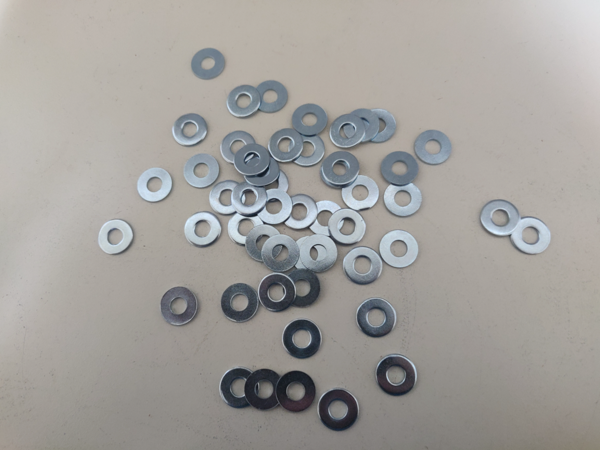circle: (376, 355, 418, 397), (318, 389, 359, 432), (276, 371, 316, 413), (357, 298, 397, 338), (220, 368, 259, 409), (510, 217, 552, 255), (283, 319, 322, 359), (245, 369, 282, 411), (379, 230, 419, 268), (344, 247, 383, 285), (480, 200, 520, 237), (220, 284, 258, 322), (283, 269, 321, 307), (245, 225, 283, 263), (161, 287, 198, 326), (258, 273, 295, 312), (300, 235, 337, 273), (184, 211, 221, 248), (262, 235, 299, 272), (98, 219, 134, 256), (307, 201, 344, 237), (380, 151, 418, 186), (342, 176, 380, 211), (384, 183, 423, 217), (329, 209, 365, 245), (228, 211, 264, 247), (252, 167, 289, 202), (137, 168, 173, 203), (283, 194, 318, 230), (269, 128, 304, 164), (257, 189, 293, 224), (231, 182, 267, 217), (210, 180, 246, 215), (415, 131, 452, 165), (184, 154, 219, 189), (221, 131, 257, 165), (323, 151, 360, 184), (321, 155, 358, 188), (293, 236, 330, 269), (363, 109, 397, 144), (344, 110, 379, 144), (330, 115, 365, 149), (289, 133, 325, 166), (234, 144, 271, 176), (254, 80, 289, 113), (292, 103, 327, 136), (227, 85, 261, 118), (244, 155, 280, 186), (173, 114, 207, 146), (192, 48, 225, 80)
